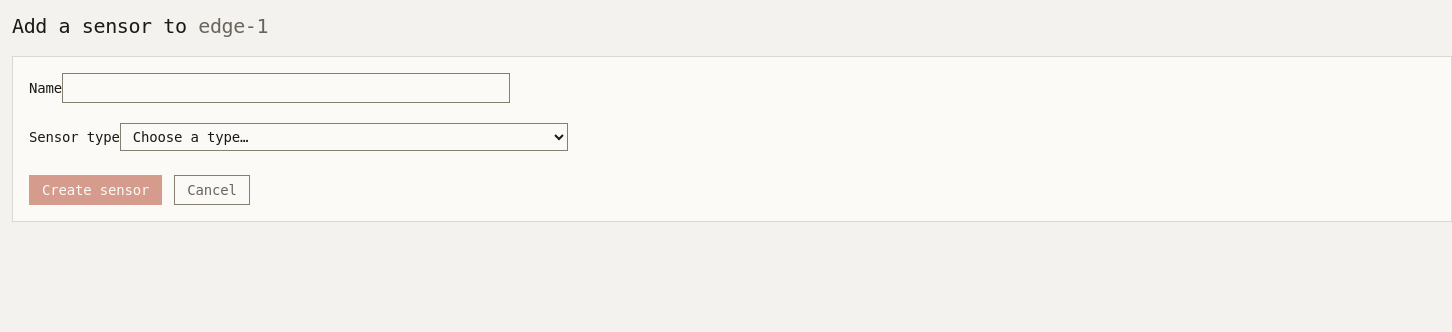
Scenario: focus through a create (U-23 review) › keeps focus in the name box Enter created from
Type "Ping" into the field labelled "Name" at (286, 88), box [62,73,510,103]
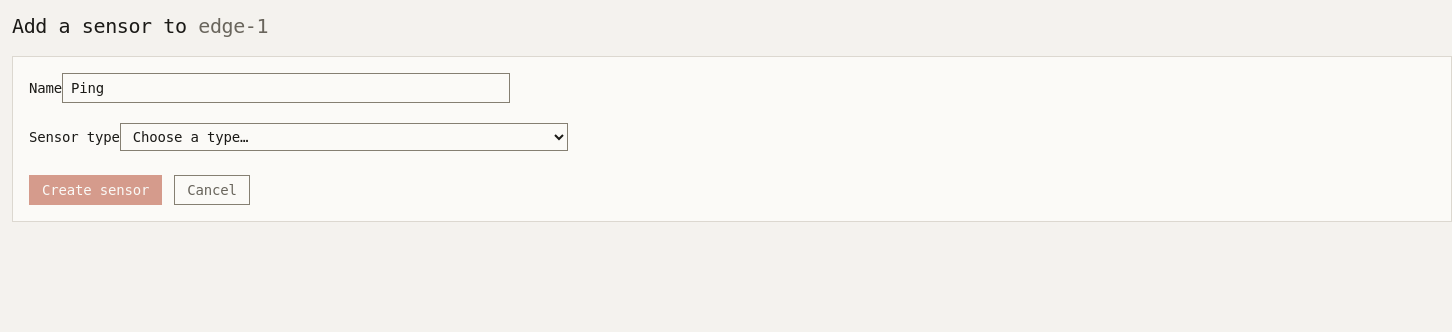
Select "icmp.ping — Availability" in the dropdown labelled "Sensor type" at (344, 137), box [120,123,568,151]
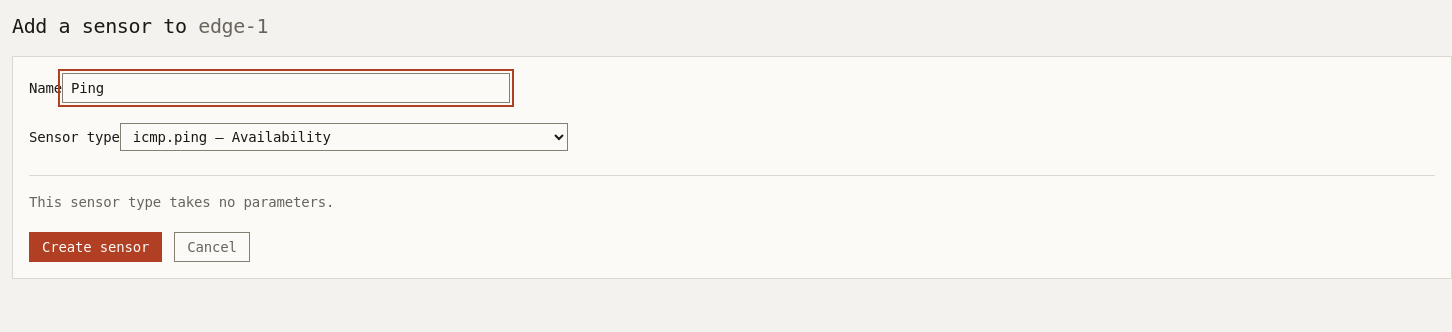
Submit the form "Create sensor", box [29,73,1435,262]
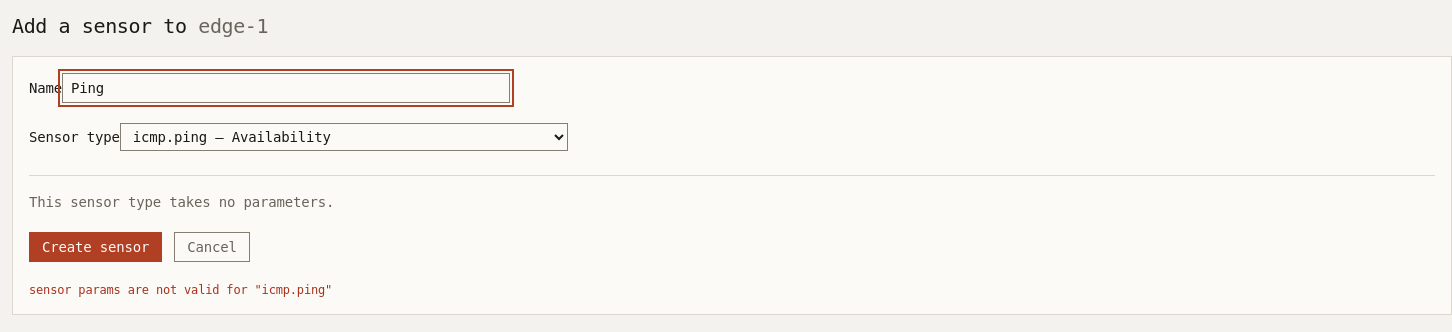
Expected: the field labelled "Name" is enabled, [62,73,510,103]
Now the message reads "sensor params are not valid for \"icmp.ping\"", box [29,283,332,297]
